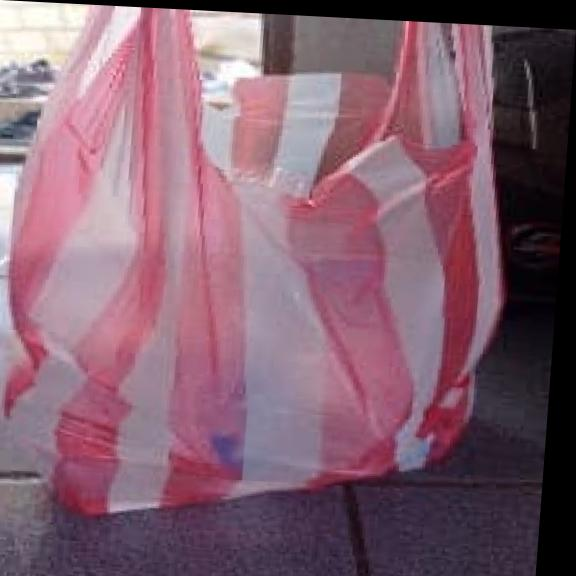Plastik: (0, 7, 508, 517)
